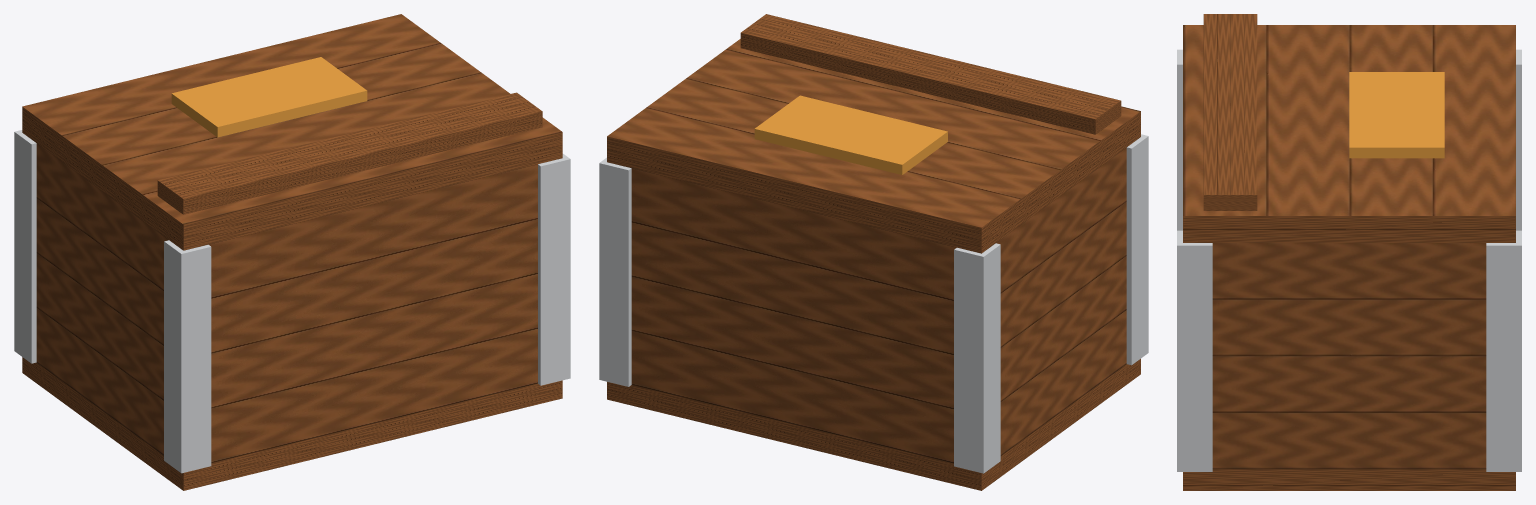
File: volcano-and-lava-fields-volcano-and-lava-fields-sample-da6a6d1c__37484.glb
3 views of the same model, side by side, from view 1: azimuth 30°, elevation 25°; view 2: azimuth 150°, elevation 25°; view 3: azimuth 270°, elevation 25° (orthographic). The views are drawn at different scales.
Parts seen in each view (by area): view 1: volcano-and-lava-fields-sample-crate, crate-lid/timber, crate-lid/hiVis; view 2: volcano-and-lava-fields-sample-crate, crate-lid/timber, crate-lid/hiVis; view 3: volcano-and-lava-fields-sample-crate, crate-lid/timber, crate-lid/hiVis.
Boxes of the visible parts, x1,y1,x2,y2 form: volcano-and-lava-fields-sample-crate: (14, 130, 570, 490); crate-lid/timber: (22, 14, 562, 250); crate-lid/hiVis: (171, 57, 367, 137); volcano-and-lava-fields-sample-crate: (599, 134, 1148, 490); crate-lid/timber: (607, 14, 1140, 253); crate-lid/hiVis: (754, 95, 947, 174); volcano-and-lava-fields-sample-crate: (1177, 49, 1521, 490); crate-lid/timber: (1183, 14, 1515, 242); crate-lid/hiVis: (1349, 72, 1444, 158).
Size of the model in its own units: 0.78 by 0.54 by 0.58.
Materials: 4 (2 with a texture image).
